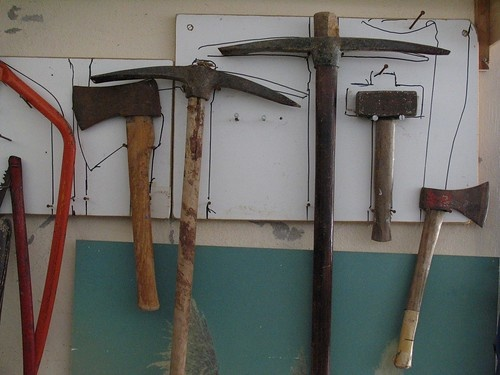hammer: (354, 86, 417, 243)
